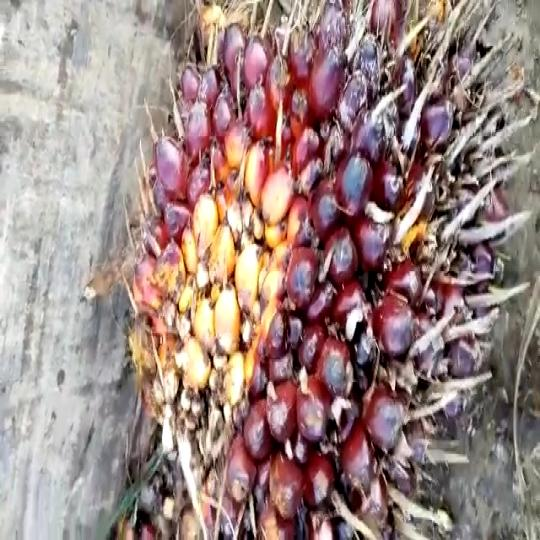kurang masak: (119, 0, 507, 540)
